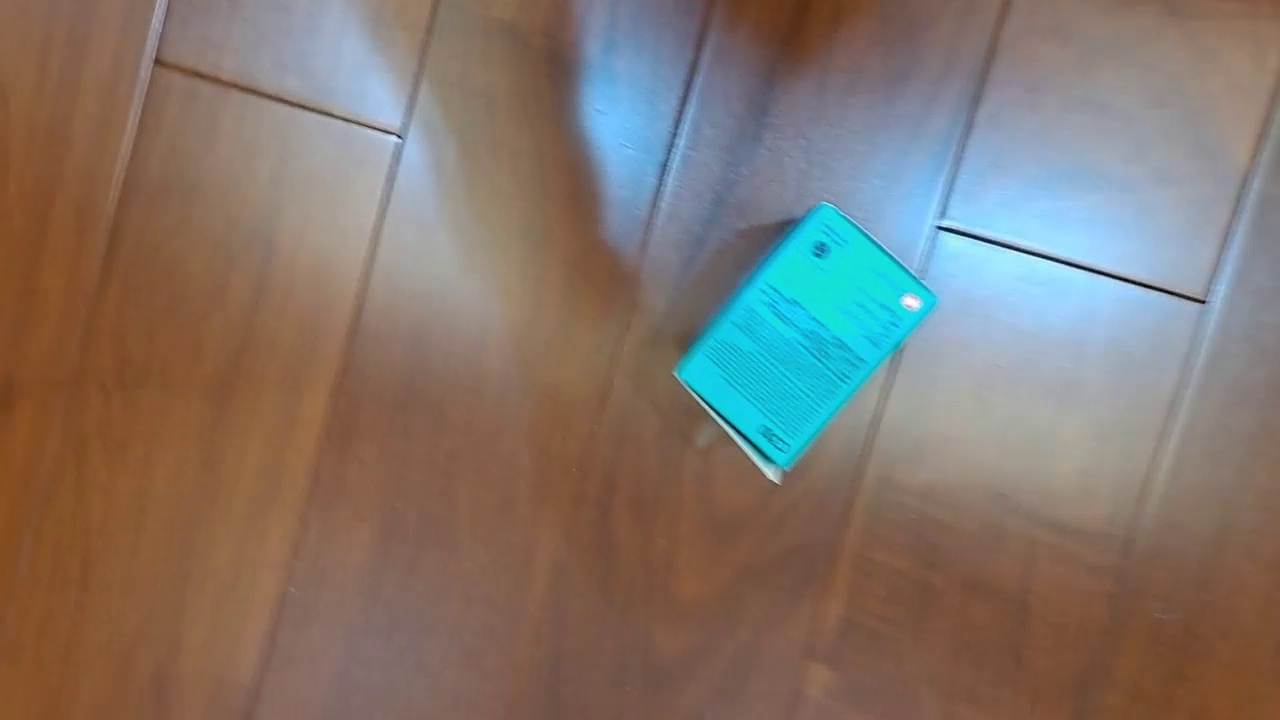webcam: (669, 198, 944, 489)
